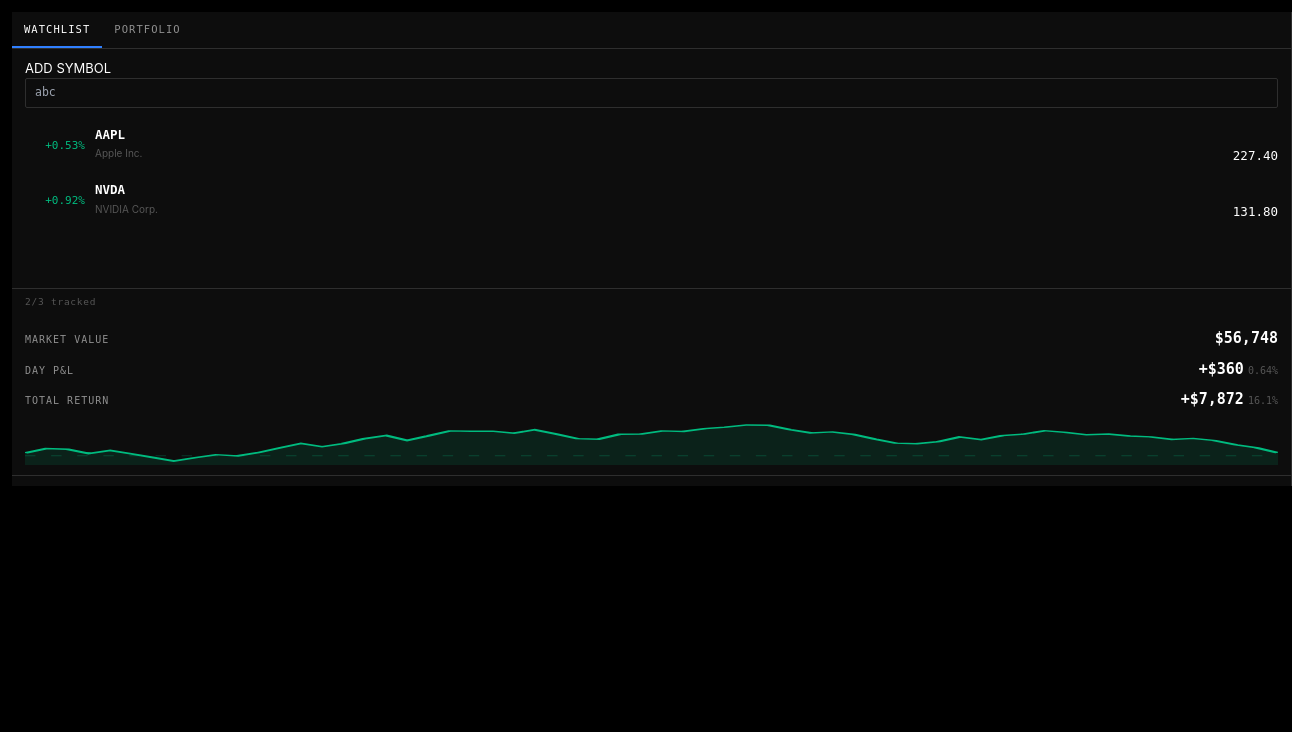
Test case: WatchlistPanel › warns when the added symbol is not in the pool
Type "zzzz" into the field with test id "watchlist-search-input". click: (652, 93)
box: top-left (25, 78), bottom-right (1278, 108)
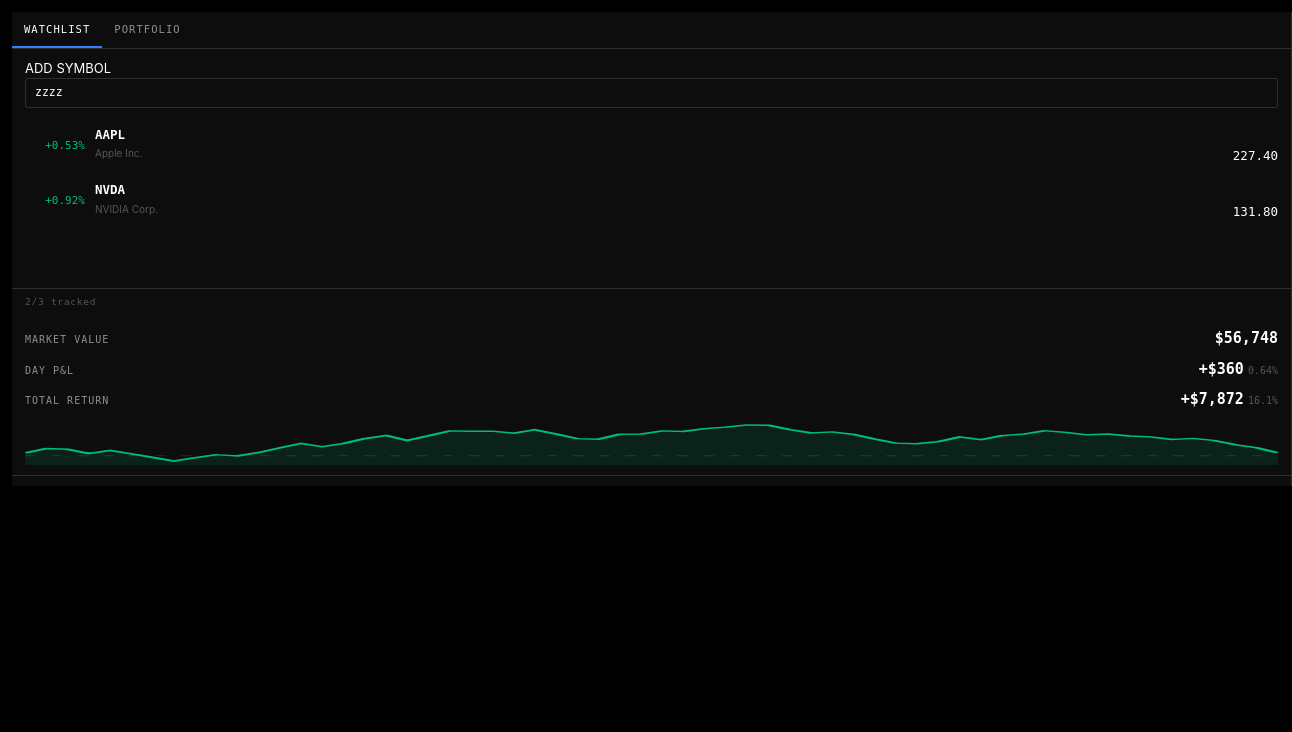
Submit the form with test id "watchlist-search", box top-left (12, 49), bottom-right (1291, 117)
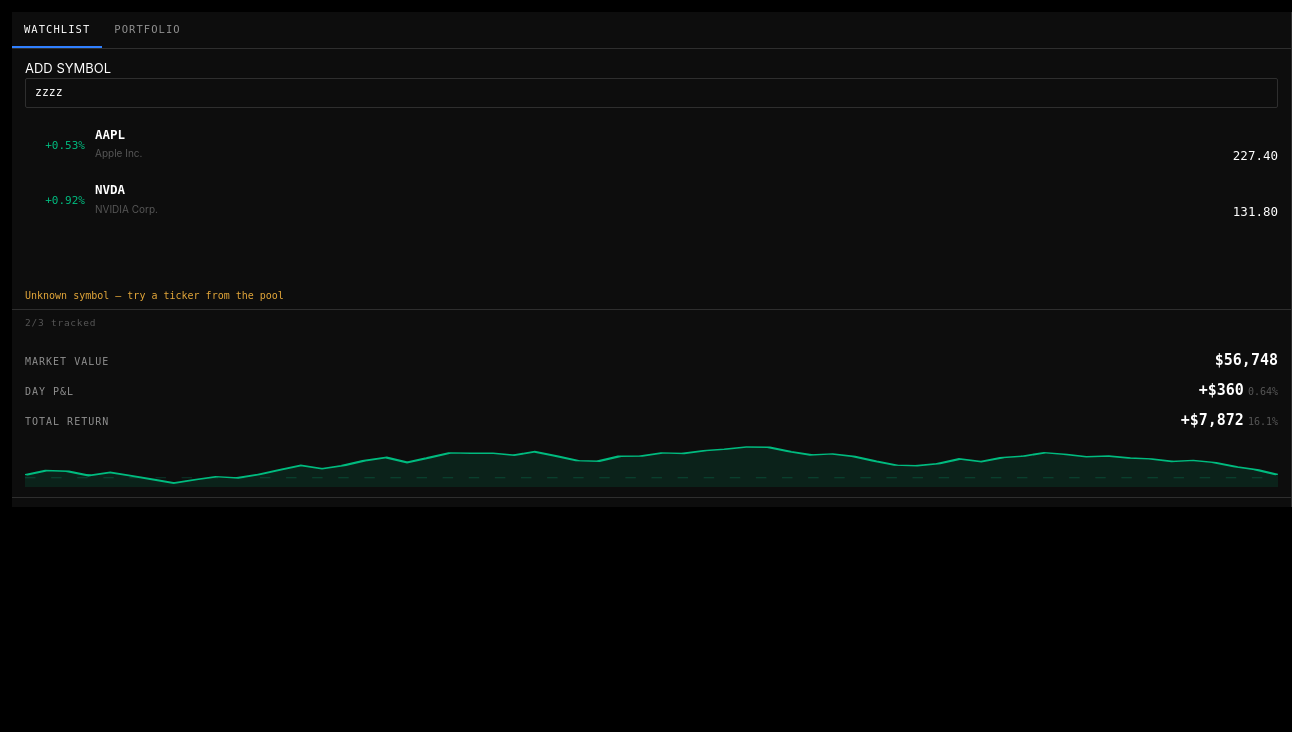
Check: the text "Unknown symbol — try a ticker from the pool" is shown, box top-left (25, 290), bottom-right (284, 301)
